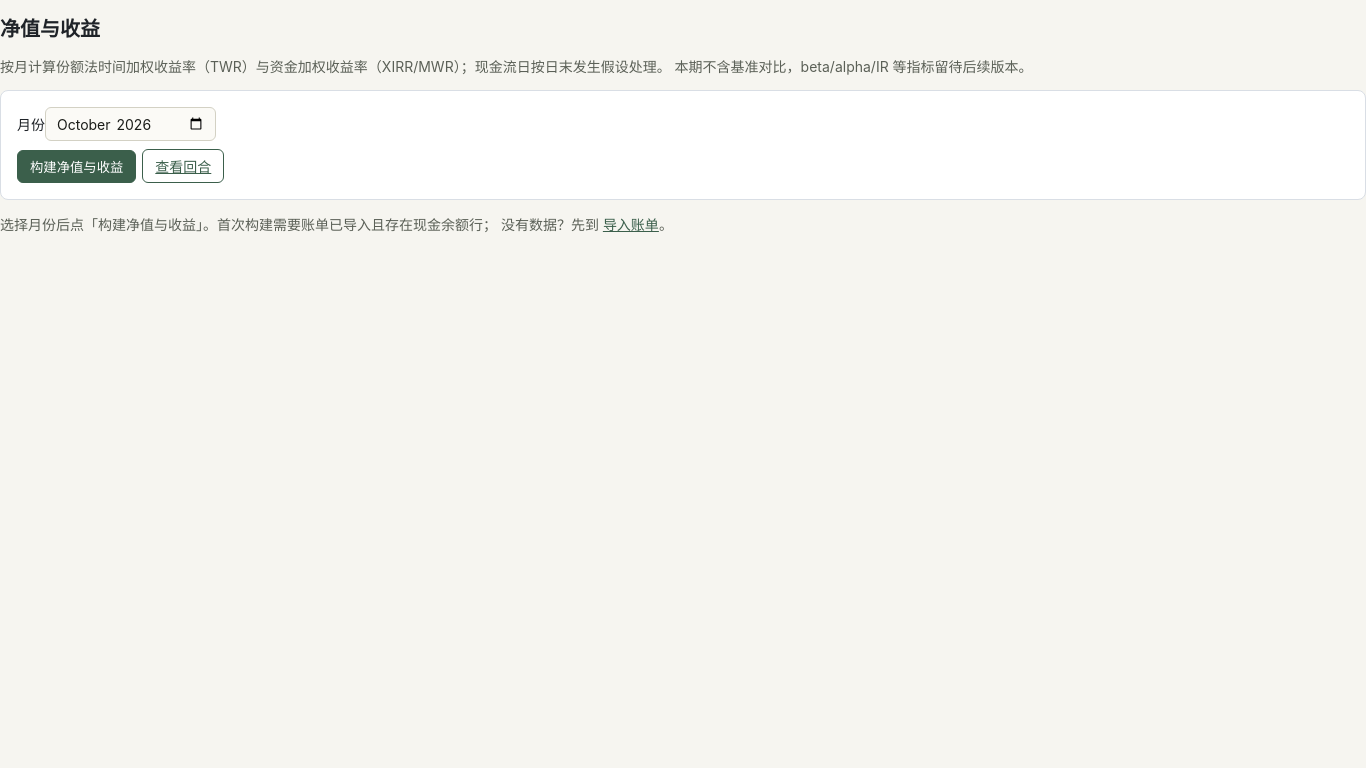
Test: Nav 净值与收益页 › 期初资产为反推值时给出口径提示
The width and height of the screenshot is (1366, 768).
Click the button "构建净值与收益": (77,166) x1=17 y1=150 x2=136 y2=183
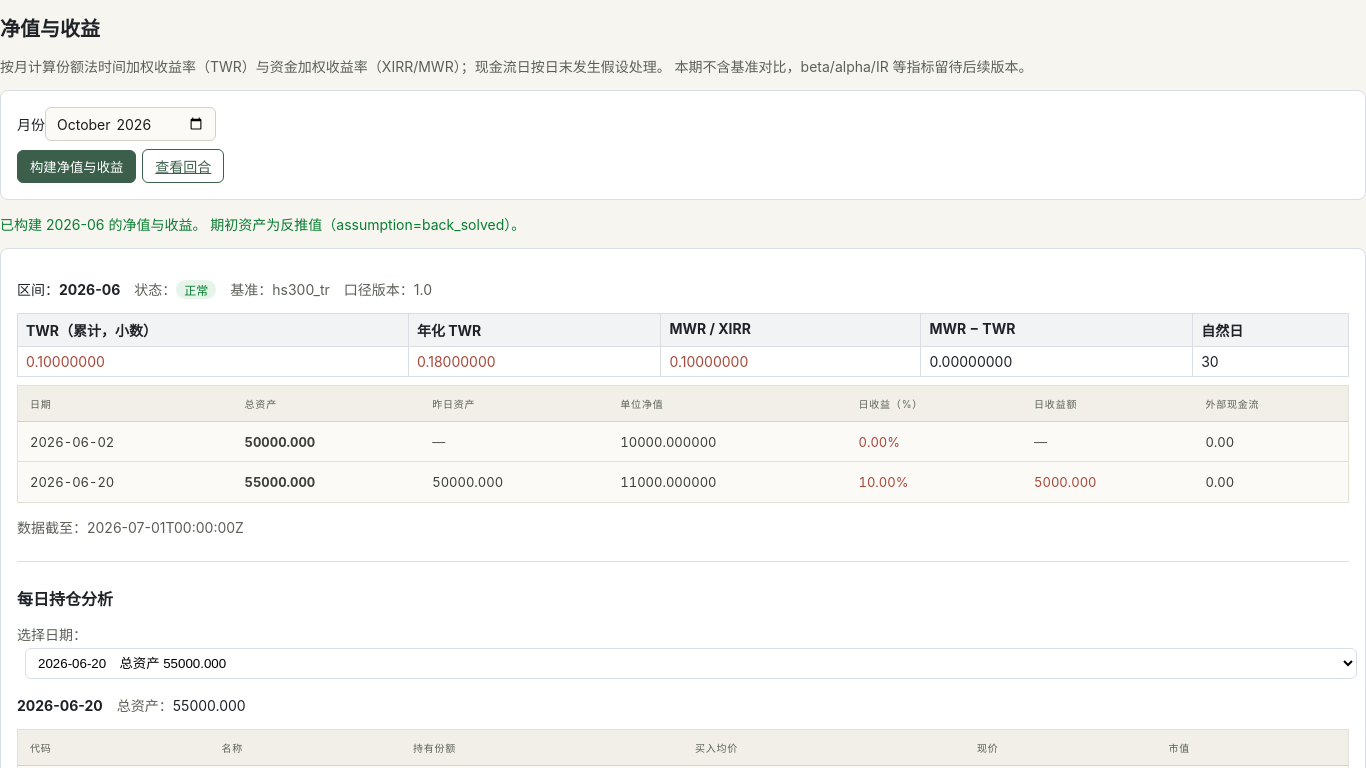
expect the text "已构建 2026-06 的净值与收益。 期初资产为反推值（assumption=back_solved）。" is shown: met, box x1=0 y1=216 x2=525 y2=233
